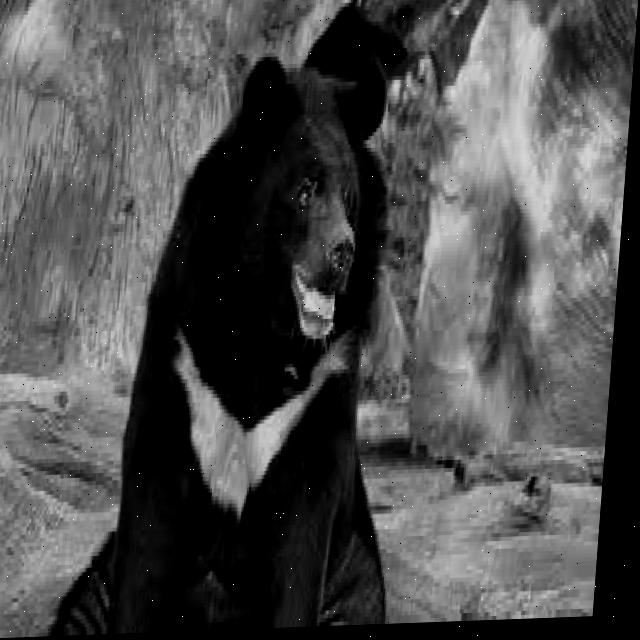Bear: (105, 51, 427, 634)
